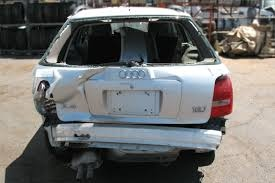Broken-glass: (63, 19, 212, 65), (211, 74, 232, 120), (34, 80, 55, 124)
Dent: (54, 66, 179, 123)
Smashed: (43, 121, 224, 158)
